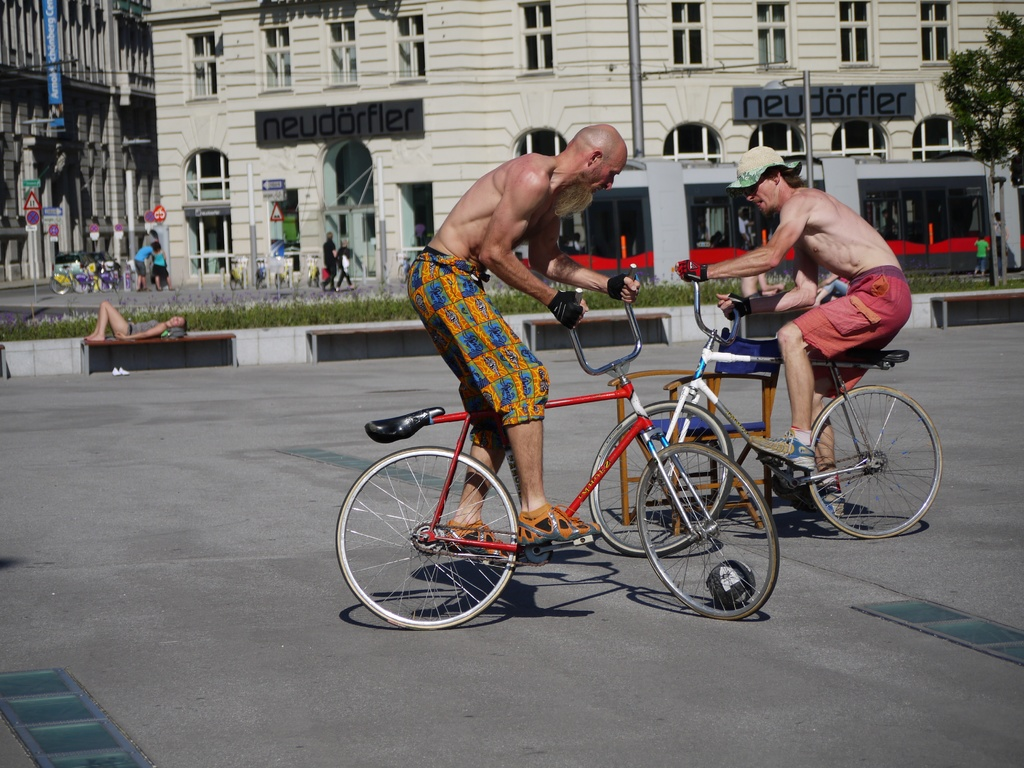Bike_away: (337, 293, 781, 629), (593, 271, 945, 552)
